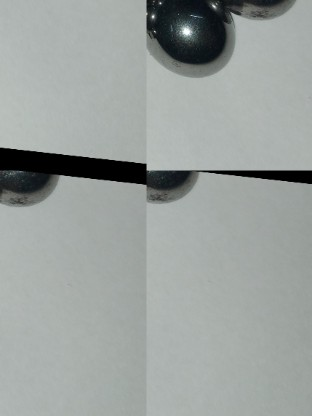ironball: (145, 0, 234, 78), (1, 166, 73, 206), (215, 0, 302, 26), (147, 170, 200, 204)
